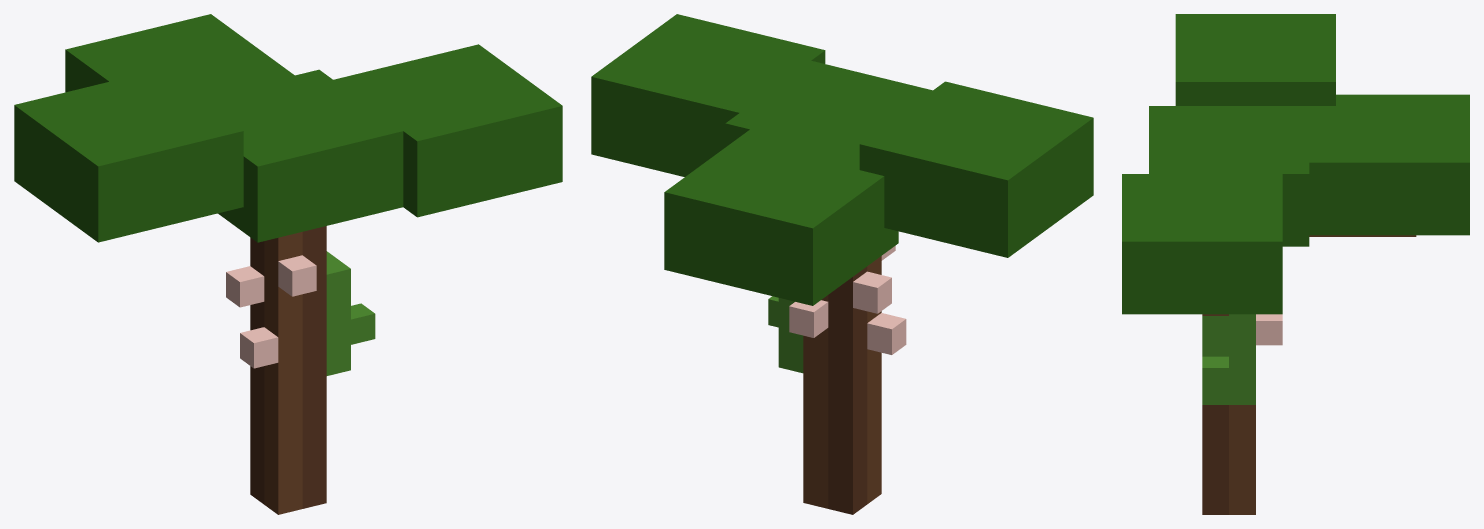
The model's file is cacao_v2.obj.
The picture shows the model from 3 angles, left to right: view 1: azimuth 30°, elevation 25°; view 2: azimuth 150°, elevation 25°; view 3: azimuth 270°, elevation 25°; orthographic projection. The views are drawn at different scales.
Bounding box in the file's own units: 18 × 16 × 13.
